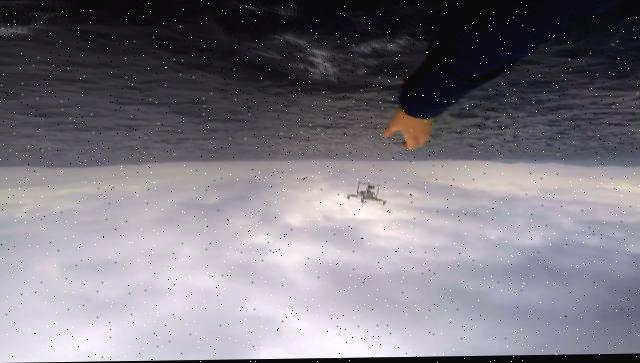drone: (344, 180, 388, 209)
